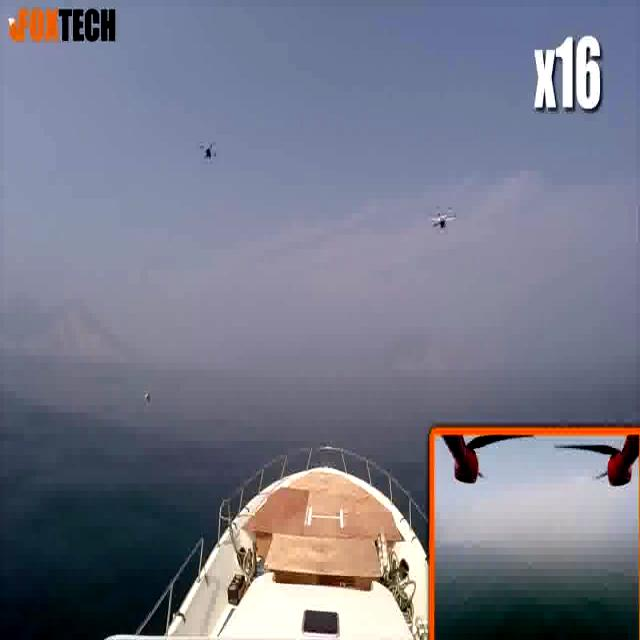drone: (427, 203, 457, 238), (199, 140, 219, 164)
